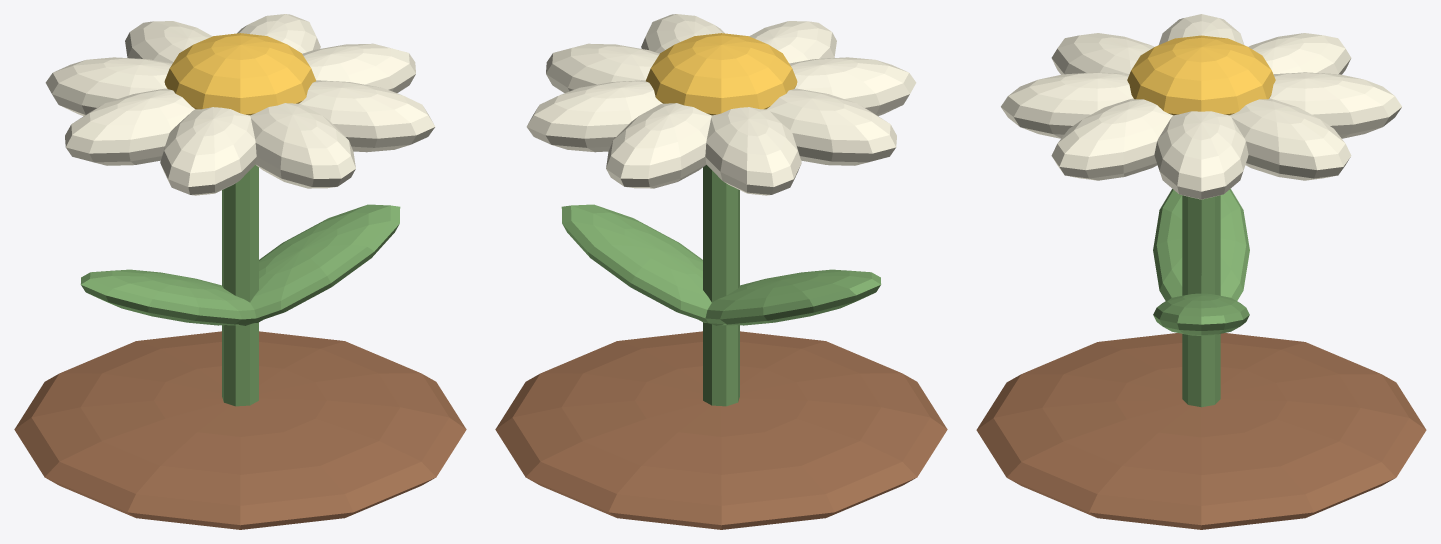
The model's file is Flower.fbx.
3 renders of one model, left to right at view 1: azimuth 30°, elevation 25°; view 2: azimuth 150°, elevation 25°; view 3: azimuth 270°, elevation 25°, orthographic.
Visible parts, largest first — view 1: Flower bed, Flower heart, Leaf.001, Stem, Petal.006, Petal.004, Petal.005, Leaf, Petal.007, Petal.003, Petal, Petal.002 (+1 smaller); view 2: Flower bed, Flower heart, Leaf.001, Stem, Petal.002, Petal.004, Petal.003, Leaf, Petal.001, Petal.005, Petal, Petal.006 (+1 smaller); view 3: Flower bed, Flower heart, Petal.001, Petal.007, Petal, Stem, Petal.002, Petal.006, Leaf, Leaf.001, Petal.003, Petal.005 (+1 smaller).
Boxes of the visible parts, <box> form: Flower bed: <box>14,331,466,529</box>; Flower heart: <box>164,33,315,115</box>; Leaf.001: <box>227,204,400,325</box>; Stem: <box>222,165,258,406</box>; Petal.006: <box>250,103,355,188</box>; Petal.004: <box>65,88,194,165</box>; Petal.005: <box>160,107,256,195</box>; Leaf: <box>80,269,262,325</box>; Petal.007: <box>299,80,435,152</box>; Petal.003: <box>45,57,172,116</box>; Petal: <box>302,43,415,92</box>; Petal.002: <box>125,21,212,63</box>; Flower bed: <box>495,331,947,529</box>; Flower heart: <box>646,33,797,115</box>; Leaf.001: <box>561,204,734,325</box>; Stem: <box>703,165,739,406</box>; Petal.002: <box>606,103,711,188</box>; Petal.004: <box>767,88,896,165</box>; Petal.003: <box>705,107,801,195</box>; Leaf: <box>699,269,881,325</box>; Petal.001: <box>526,80,662,152</box>; Petal.005: <box>789,57,916,116</box>; Petal: <box>546,43,659,92</box>; Petal.006: <box>749,21,836,63</box>; Flower bed: <box>976,333,1426,529</box>; Flower heart: <box>1127,35,1275,115</box>; Petal.001: <box>1230,98,1351,180</box>; Petal.007: <box>1051,98,1172,180</box>; Petal: <box>1154,111,1248,199</box>; Stem: <box>1182,195,1220,407</box>; Petal.002: <box>1269,72,1401,138</box>; Petal.006: <box>1001,72,1133,138</box>; Leaf: <box>1153,189,1249,300</box>; Leaf.001: <box>1153,293,1249,335</box>; Petal.003: <box>1248,33,1351,74</box>; Petal.005: <box>1051,33,1154,74</box>.
Bounding box in the file's own units: 130 × 132 × 130.
